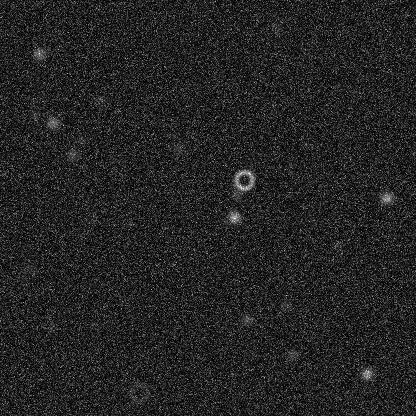Ring: (127, 380, 151, 404), (232, 168, 256, 192)
Spot: (73, 131, 89, 147), (330, 237, 346, 253), (378, 189, 394, 205), (359, 365, 375, 381), (238, 311, 254, 327), (22, 261, 38, 277), (93, 92, 109, 108), (31, 45, 47, 61), (284, 346, 300, 362), (226, 209, 242, 225), (26, 105, 42, 121), (44, 114, 60, 130), (43, 319, 59, 335), (64, 146, 80, 162), (277, 297, 293, 313), (227, 185, 243, 201), (170, 139, 186, 155), (82, 211, 98, 227), (267, 18, 283, 34)
